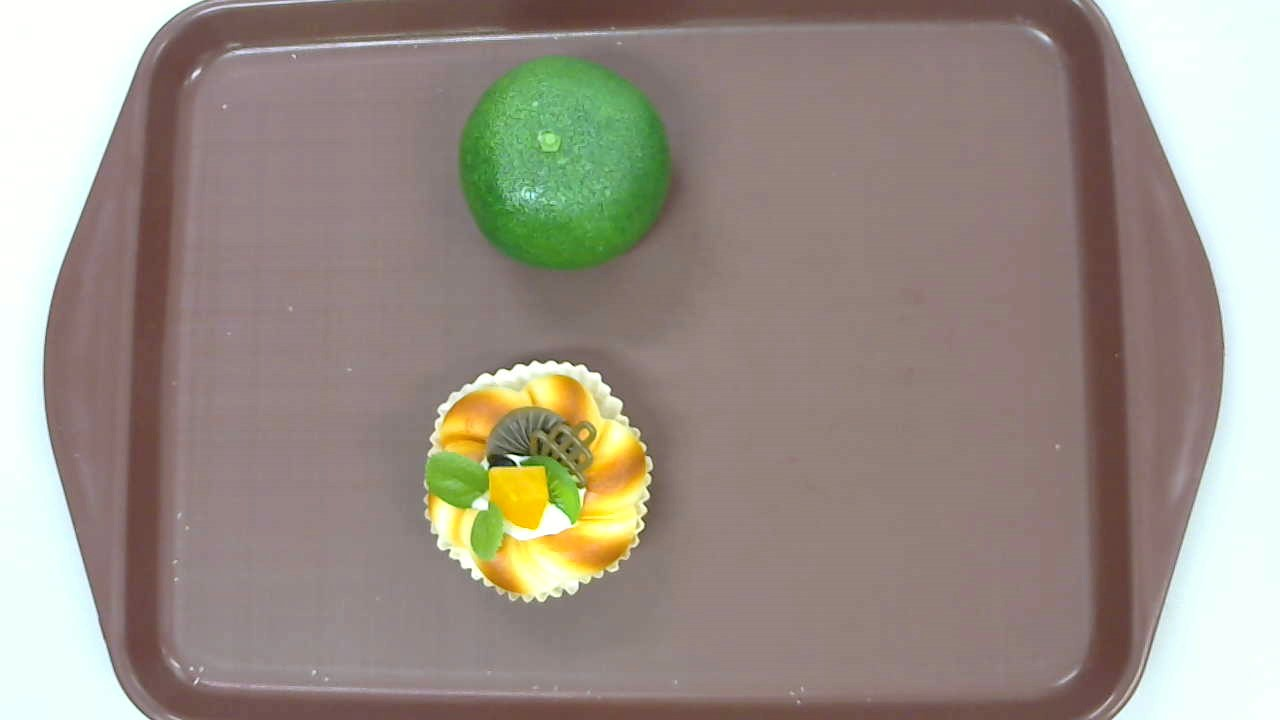fruit tart: (423, 360, 655, 603)
green orange: (459, 53, 672, 269)
